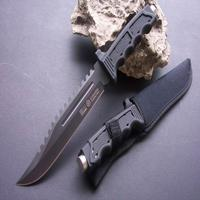knife: (13, 7, 155, 189), (73, 53, 197, 173)
